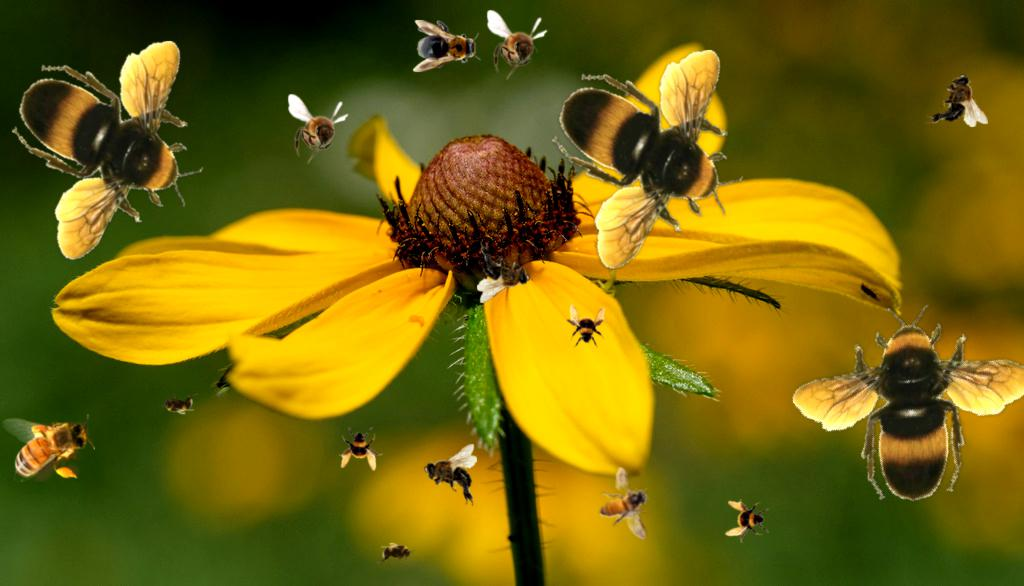Bee: (776, 260, 1024, 539), (12, 41, 203, 261), (552, 50, 743, 270), (2, 414, 95, 482), (597, 464, 653, 541), (487, 10, 548, 80), (288, 94, 349, 164), (413, 20, 481, 72), (477, 241, 530, 303), (926, 74, 988, 127), (424, 444, 477, 506), (563, 304, 607, 348), (339, 427, 383, 471), (725, 499, 769, 543), (158, 393, 198, 415), (377, 542, 417, 564)
